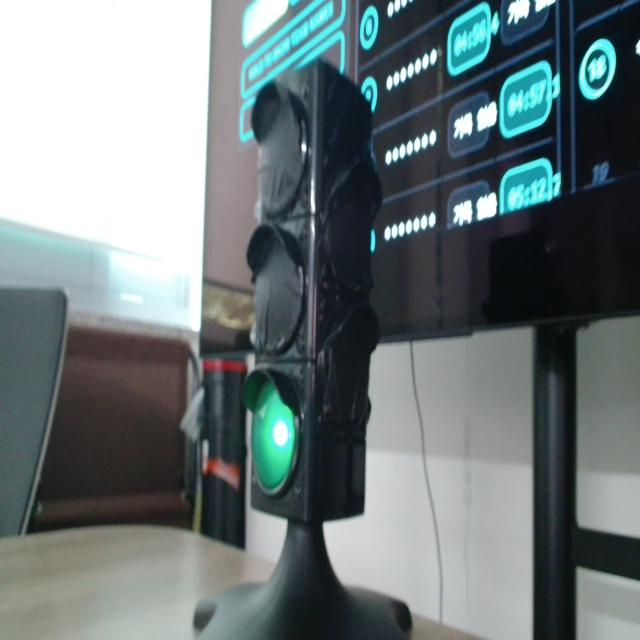green_light: (252, 382, 295, 491)
